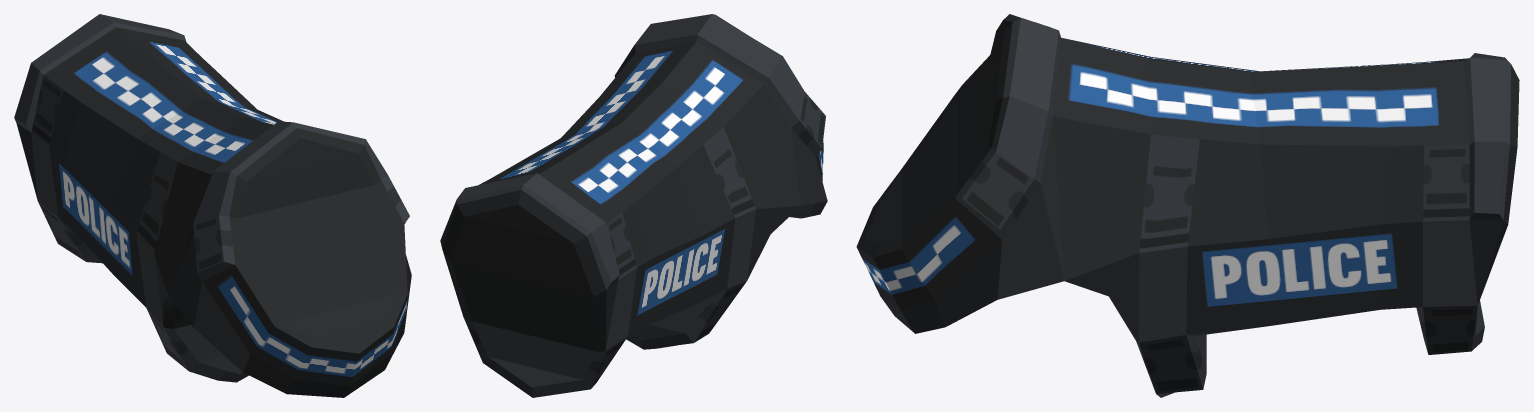
The model's file is SK_Chr_Attach_Vest_Police_GermanShepherd_01.fbx.
3 renders of one model, left to right at view 1: azimuth 30°, elevation 25°; view 2: azimuth 150°, elevation 25°; view 3: azimuth 270°, elevation 25°, orthographic. The views are drawn at different scales.
Parts seen in each view (by area): view 1: SK_Chr_Attach_Vest_Police_GermanShepherd_01; view 2: SK_Chr_Attach_Vest_Police_GermanShepherd_01; view 3: SK_Chr_Attach_Vest_Police_GermanShepherd_01.
Boxes of the visible parts, x1=… form: SK_Chr_Attach_Vest_Police_GermanShepherd_01: x1=14, y1=14, x2=411, y2=397; SK_Chr_Attach_Vest_Police_GermanShepherd_01: x1=440, y1=14, x2=827, y2=397; SK_Chr_Attach_Vest_Police_GermanShepherd_01: x1=856, y1=14, x2=1519, y2=397.
Size of the model in its own units: 33.58 by 44.48 by 70.81.
